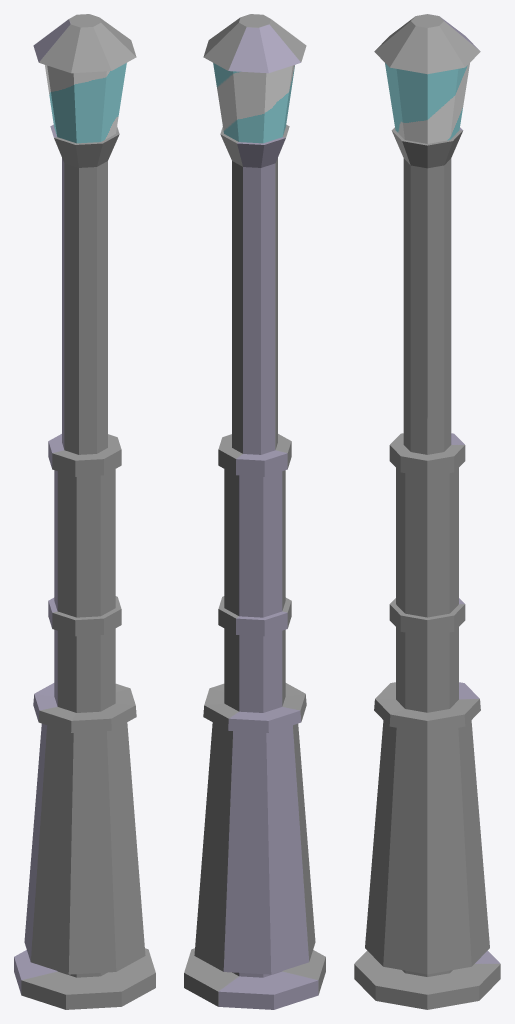
Rendered from Lamp_pole.fbx.
3 renders of one model, left to right at view 1: azimuth 30°, elevation 25°; view 2: azimuth 150°, elevation 25°; view 3: azimuth 270°, elevation 25°, orthographic.
Parts seen in each view (by area): view 1: Lamp pole; view 2: Lamp pole; view 3: Lamp pole.
Boxes of the visible parts, x1,y1,x2,y2 form: Lamp pole: (14,14,155,1009); Lamp pole: (184,14,325,1009); Lamp pole: (354,14,500,1009).
Bounding box in the file's own units: 0.3085 × 2.22 × 0.3085.
Materials: 1 (1 with a texture image).
